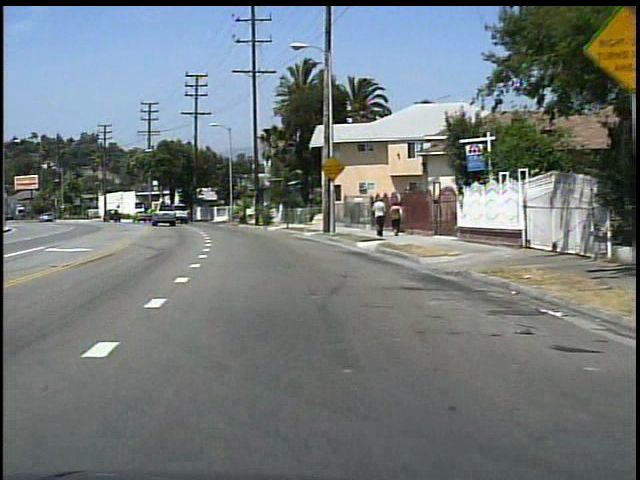person: (367, 194, 386, 239), (386, 199, 404, 235)
